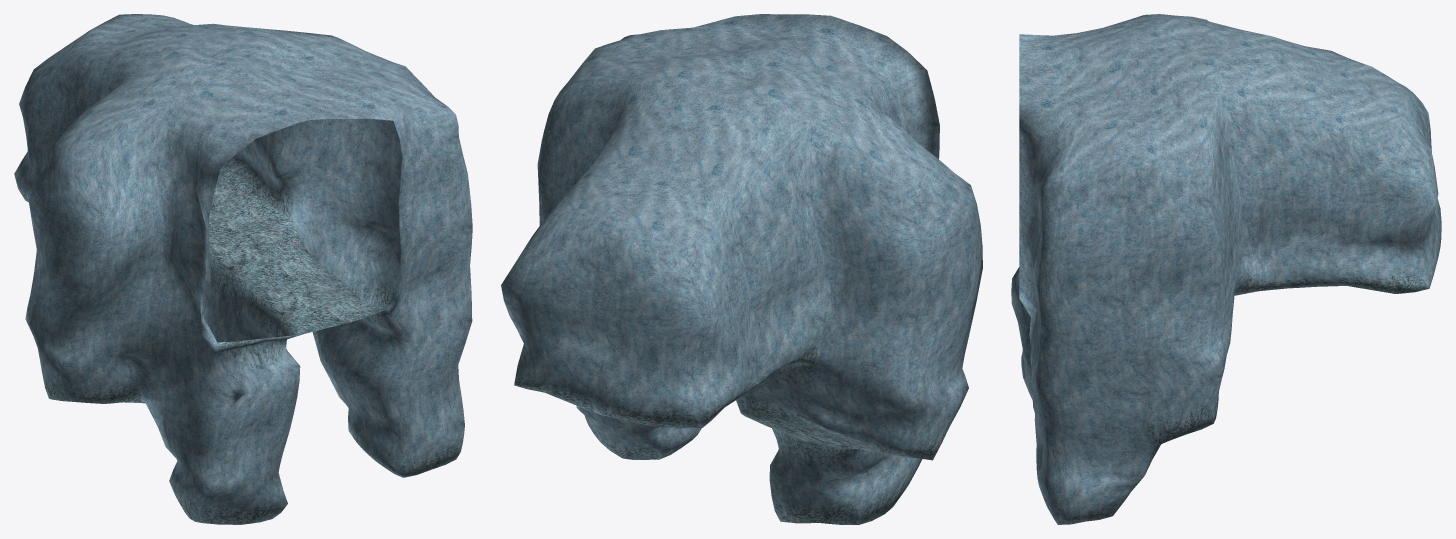
File: thm_all_cave_flatland_s03_ice_r29_mesh_29.fbx
3 renders of one model, left to right at view 1: azimuth 30°, elevation 25°; view 2: azimuth 150°, elevation 25°; view 3: azimuth 270°, elevation 25°, orthographic. The views are drawn at different scales.
Parts seen in each view (by area): view 1: mesh_node; view 2: mesh_node; view 3: mesh_node.
Boxes of the visible parts, x1,y1,x2,y2 form: mesh_node: (14, 14, 472, 524); mesh_node: (501, 14, 982, 524); mesh_node: (1011, 14, 1441, 524).
Bounding box in the file's own units: 40.79 × 45.08 × 41.15.
